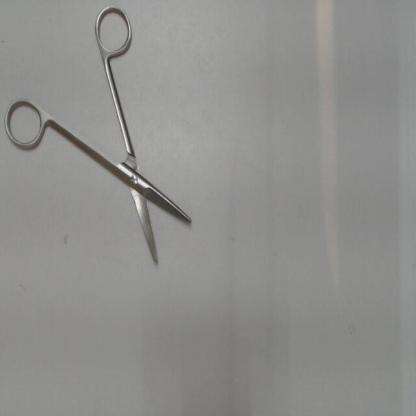Curved Mayo Scissors: (2, 3, 200, 273)
